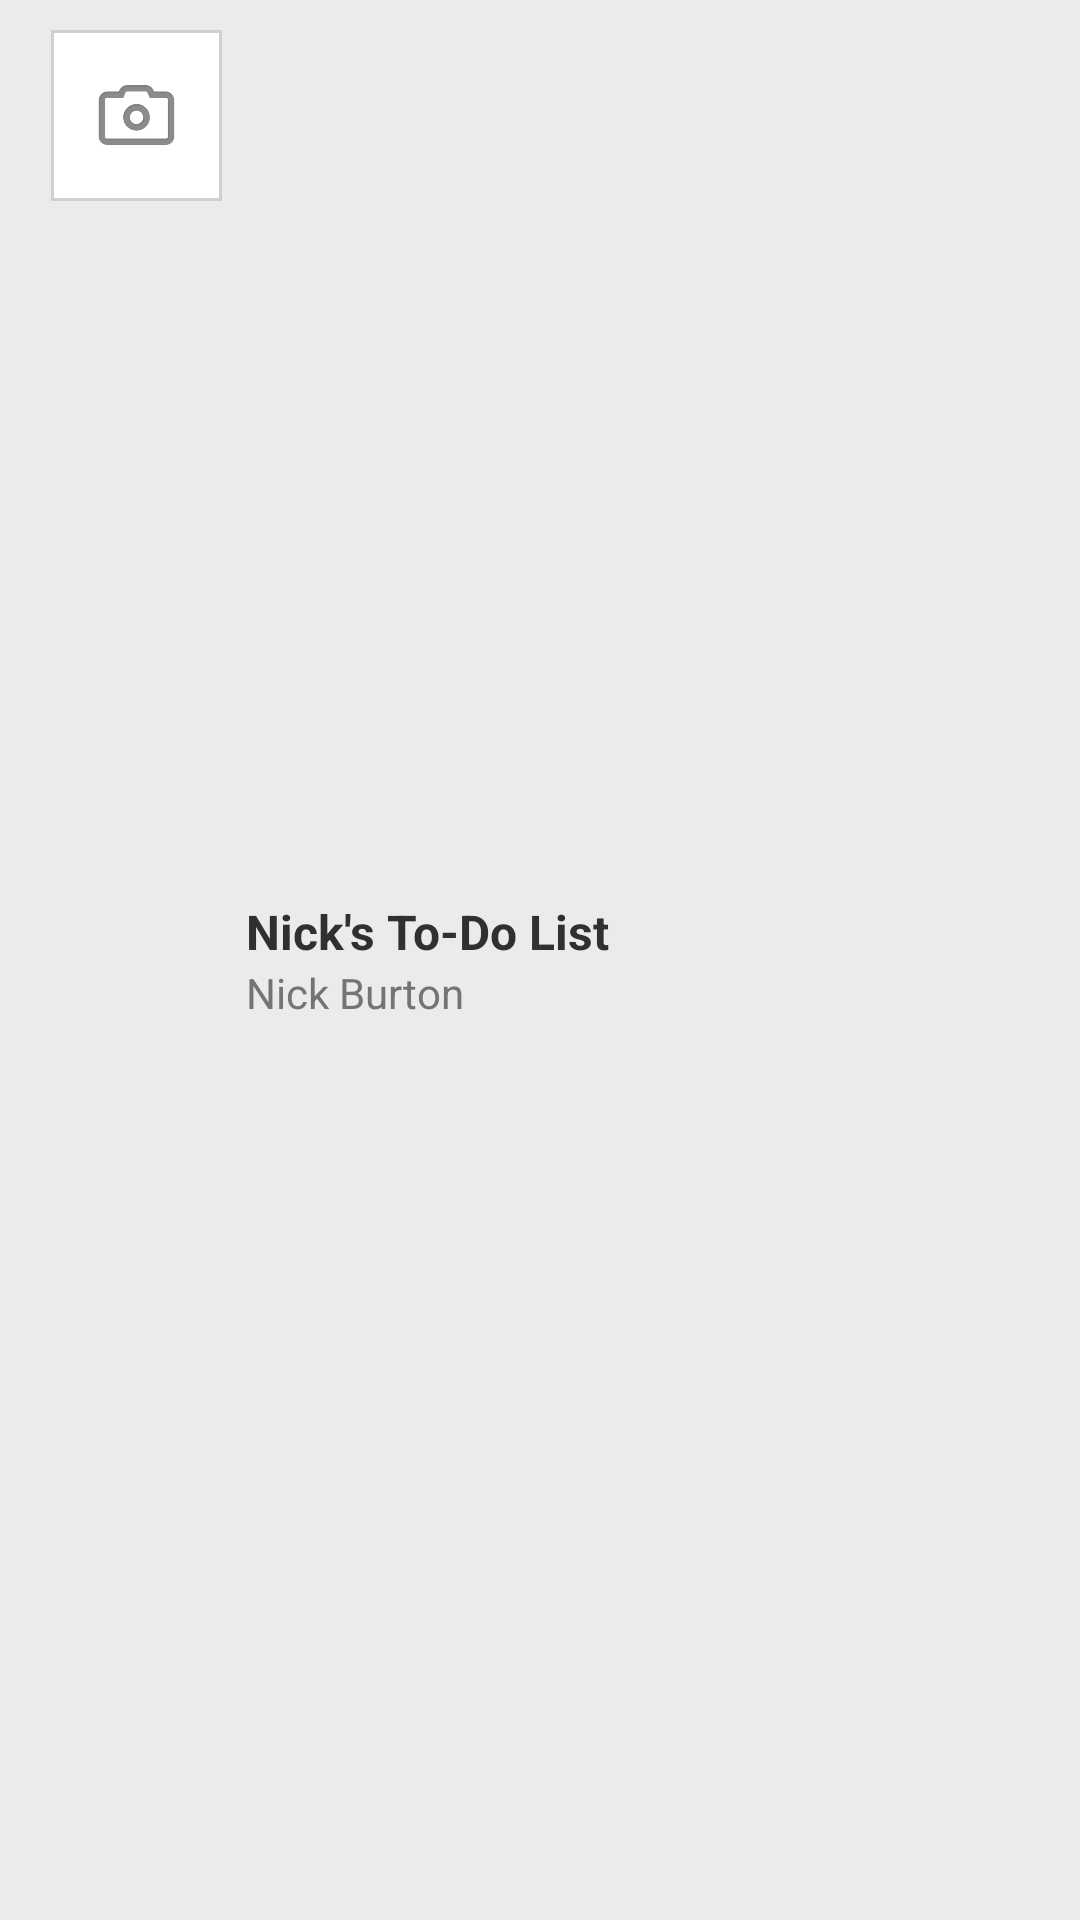

Icon bounding boxes for this 1080*1920 phone screenshot, format (x1, y1, x2, y2):
empty camera: (51, 30, 222, 201)
